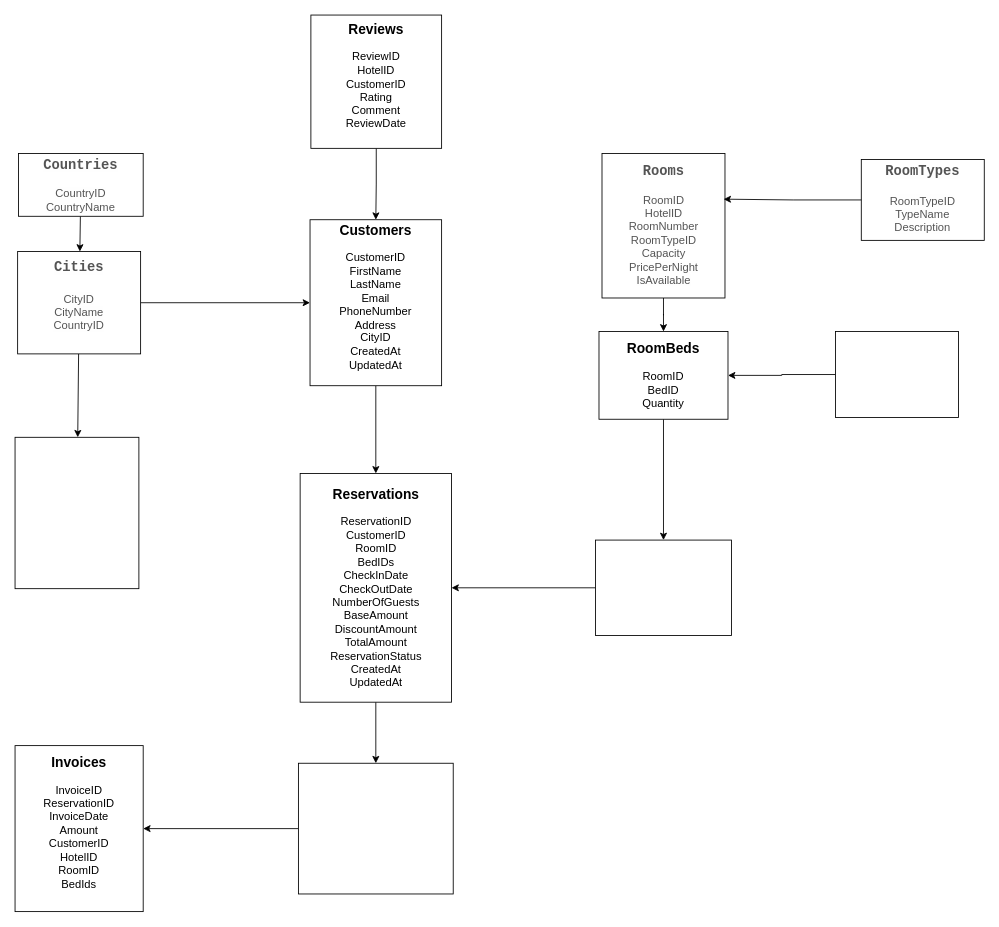
This 999x927 diagram has some shape labels left out. The shapes that lost their labels are listed below. From the top down, each one's centre as x and y in pixels, then its label:
At (896,374): "Beds BedID BedType Description".
At (76,512): "Hotels HotelID HotelName Address City ZipCode PhoneNumber Email".
At (663,587): "RoomAvailability RoomID BedID Date IsAvailable".
At (375,828): "Payments PaymentID ReservationID PaymentDate Amount PaymentMethod PaymentStatus".
